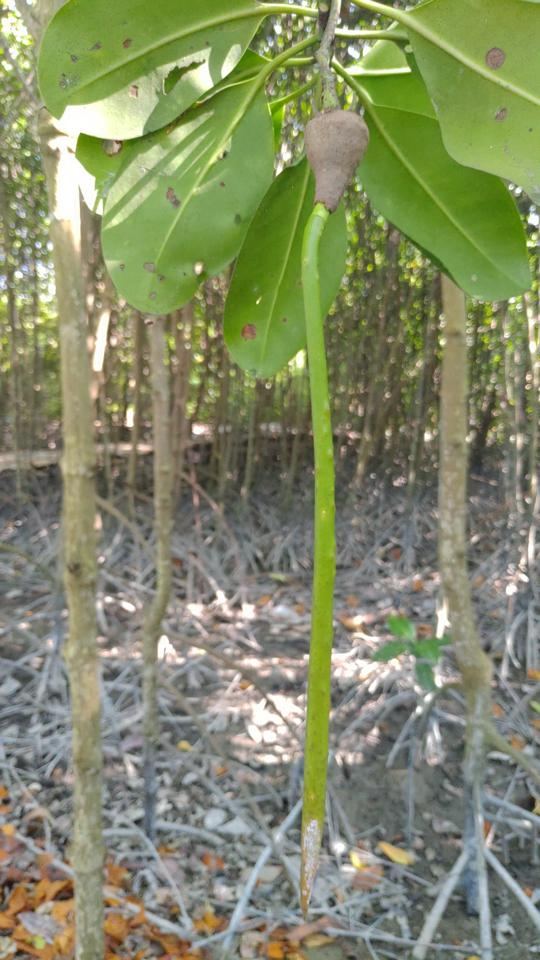setengah matang: (287, 88, 385, 927)
